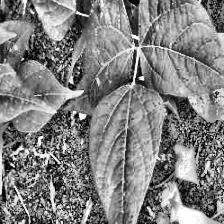ALS: (89, 95, 162, 224), (146, 0, 218, 85)
